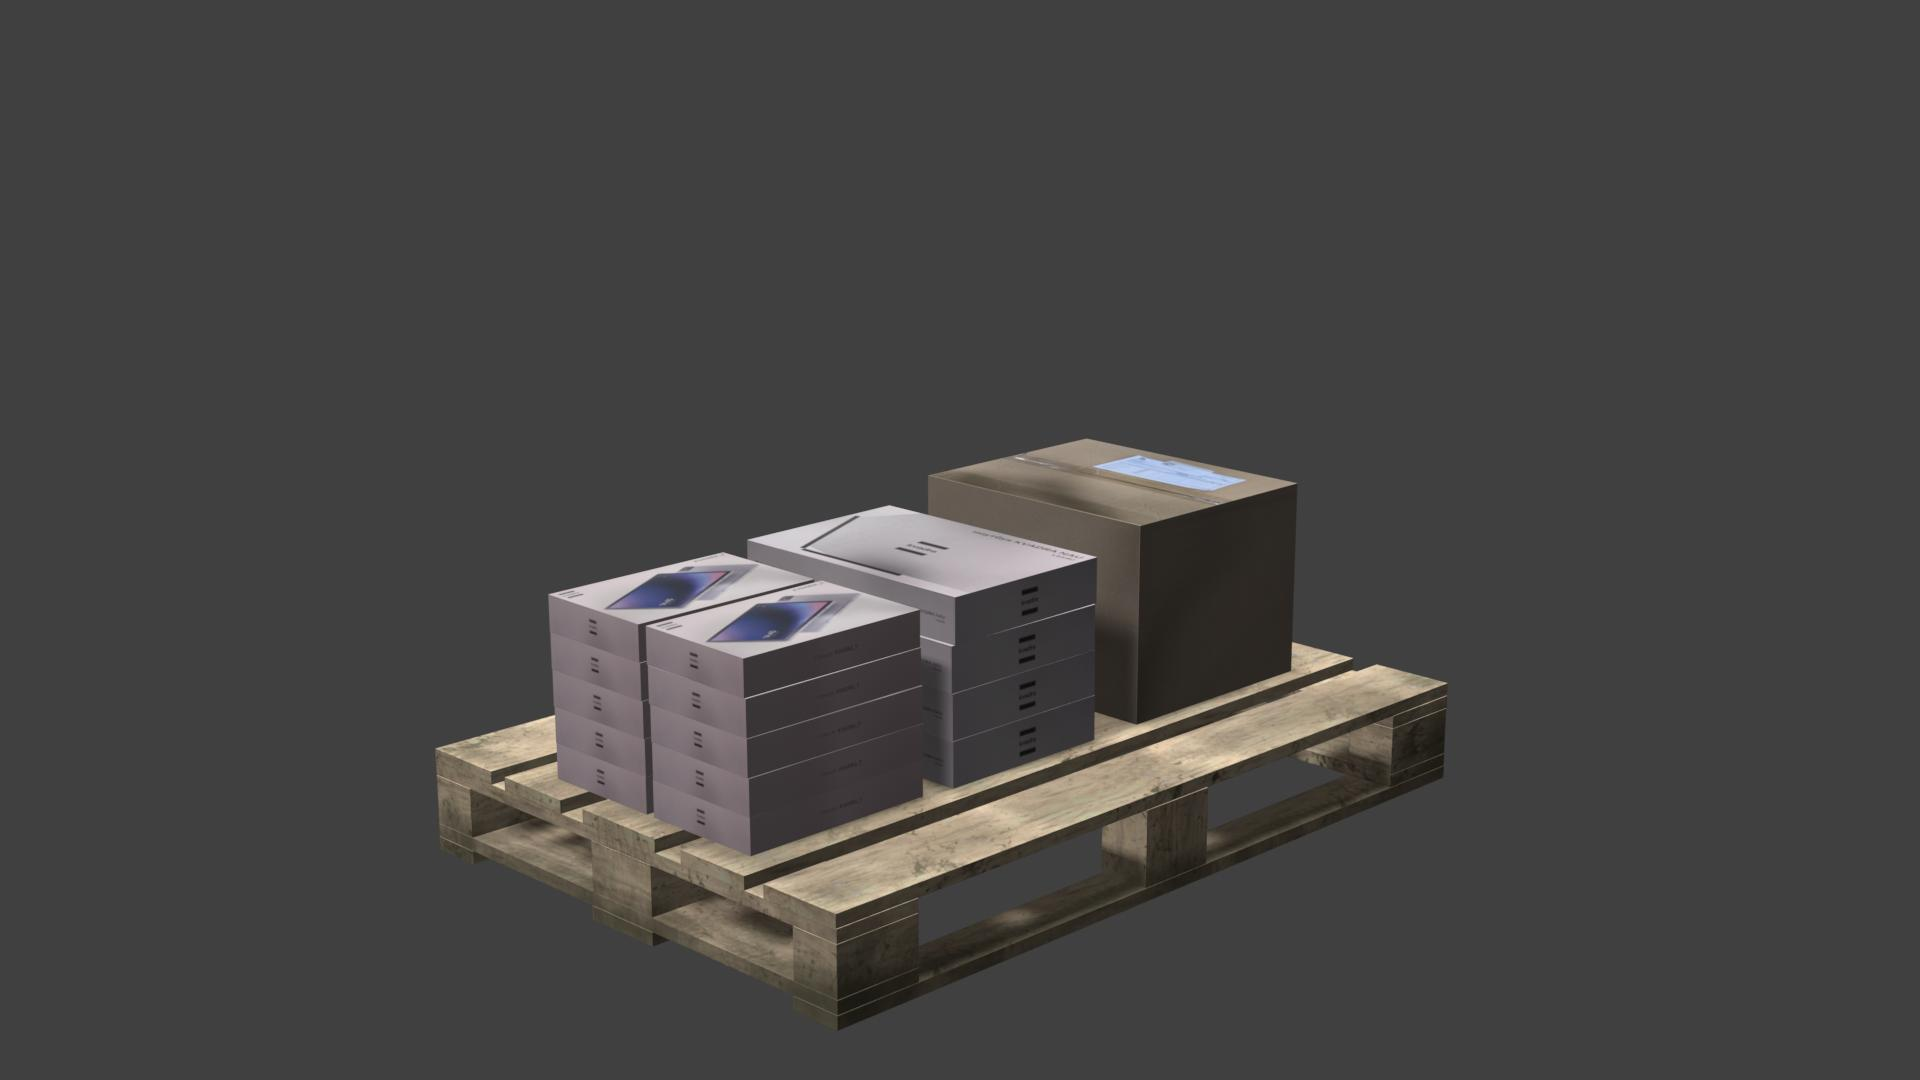group_box_left: (930, 476, 1298, 724)
group_box_top: (930, 438, 1296, 526)
laptop_left: (748, 542, 1096, 644), (924, 698, 1096, 789), (923, 605, 1096, 694), (923, 653, 1096, 741)
laptop_top: (749, 505, 1097, 597)
palet: (435, 642, 1448, 1031)
tablet_left: (654, 764, 923, 857), (651, 724, 922, 816), (650, 687, 922, 777), (650, 649, 922, 737), (646, 612, 920, 699), (555, 708, 651, 777), (551, 633, 647, 700), (550, 596, 646, 662), (554, 673, 650, 738), (556, 749, 654, 814)
tablet_top: (649, 580, 918, 661), (550, 553, 814, 625)
